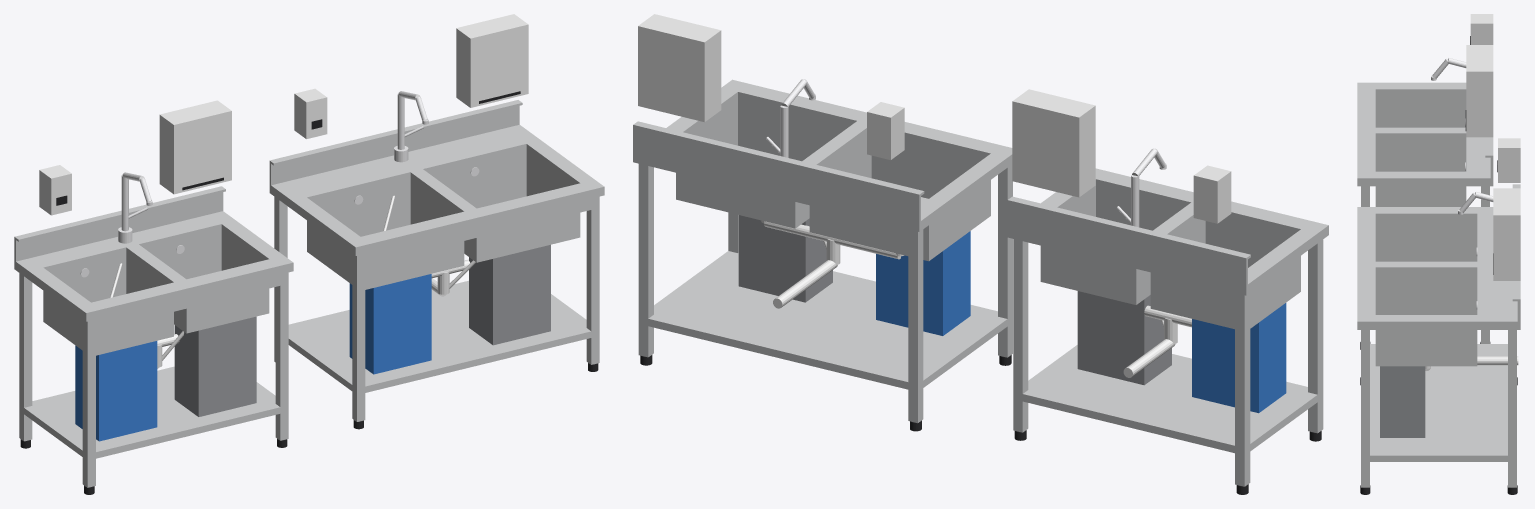
Rendered from Doppelwaschbecken.glb.
3 views of the same model, side by side, from view 1: azimuth 30°, elevation 25°; view 2: azimuth 150°, elevation 25°; view 3: azimuth 270°, elevation 25° (orthographic). The views are drawn at different scales.
Parts seen in each view (by area): view 1: Doppelwaschbecken_1200x720x850, Doppelwaschbecken_1200x720x850_Arbeitsplatte, Doppelwaschbecken_1000x600x850, Doppelwaschbecken_1000x600x850_Arbeitsplatte, Doppelwaschbecken_1200x720x850_Grundboden, Doppelwaschbecken_1000x600x850_Kanister_Abwasser, Doppelwaschbecken_1200x720x850_Kanister_Abwasser, Doppelwaschbecken_1000x600x850_Grundboden, Doppelwaschbecken_1200x720x850_Kanister_Frischwasser, Doppelwaschbecken_1000x600x850_Kanister_Frischwasser, Doppelwaschbecken_1000x600x850_Papierhandtuchhalter, Doppelwaschbecken_1200x720x850_Papierhandtuchhalter (+14 smaller); view 2: Doppelwaschbecken_1200x720x850_Grundboden, Doppelwaschbecken_1200x720x850, Doppelwaschbecken_1000x600x850, Doppelwaschbecken_1000x600x850_Grundboden, Doppelwaschbecken_1200x720x850_Arbeitsplatte, Doppelwaschbecken_1000x600x850_Arbeitsplatte, Doppelwaschbecken_1000x600x850_Papierhandtuchhalter, Doppelwaschbecken_1200x720x850_Papierhandtuchhalter, Doppelwaschbecken_1200x720x850_Aufkantung, Doppelwaschbecken_1000x600x850_Aufkantung, Doppelwaschbecken_1000x600x850_Kanister_Frischwasser, Doppelwaschbecken_1000x600x850_Kanister_Abwasser (+14 smaller); view 3: Doppelwaschbecken_1200x720x850, Doppelwaschbecken_1200x720x850_Grundboden, Doppelwaschbecken_1200x720x850_Arbeitsplatte, Doppelwaschbecken_1000x600x850, Doppelwaschbecken_1000x600x850_Arbeitsplatte, Doppelwaschbecken_1200x720x850_Kanister_Abwasser, Doppelwaschbecken_1200x720x850_Papierhandtuchhalter, Doppelwaschbecken_1000x600x850_Papierhandtuchhalter, Doppelwaschbecken_1200x720x850_Bein_11.4_0.1, Doppelwaschbecken_1200x720x850_Bein_11.4_6.6, Doppelwaschbecken_1200x720x850_Seifenspender, Doppelwaschbecken_1000x600x850_Seifenspender (+2 smaller).
Boxes of the visible parts, x1,y1,x2,y2 form: Doppelwaschbecken_1200x720x850: [307, 144, 580, 289]; Doppelwaschbecken_1200x720x850_Arbeitsplatte: [269, 124, 604, 255]; Doppelwaschbecken_1000x600x850: [43, 224, 269, 355]; Doppelwaschbecken_1000x600x850_Arbeitsplatte: [14, 211, 293, 321]; Doppelwaschbecken_1200x720x850_Grundboden: [274, 280, 599, 394]; Doppelwaschbecken_1000x600x850_Kanister_Abwasser: [174, 316, 256, 416]; Doppelwaschbecken_1200x720x850_Kanister_Abwasser: [469, 244, 550, 345]; Doppelwaschbecken_1000x600x850_Grundboden: [24, 366, 282, 460]; Doppelwaschbecken_1200x720x850_Kanister_Frischwasser: [349, 274, 431, 374]; Doppelwaschbecken_1000x600x850_Kanister_Frischwasser: [75, 341, 157, 441]; Doppelwaschbecken_1000x600x850_Papierhandtuchhalter: [159, 100, 231, 194]; Doppelwaschbecken_1200x720x850_Papierhandtuchhalter: [456, 14, 528, 107]; Doppelwaschbecken_1200x720x850_Grundboden: [638, 251, 1012, 391]; Doppelwaschbecken_1200x720x850: [676, 92, 990, 261]; Doppelwaschbecken_1000x600x850: [1040, 180, 1300, 329]; Doppelwaschbecken_1000x600x850_Grundboden: [1022, 345, 1323, 454]; Doppelwaschbecken_1200x720x850_Arbeitsplatte: [633, 79, 1012, 231]; Doppelwaschbecken_1000x600x850_Arbeitsplatte: [1007, 168, 1328, 295]; Doppelwaschbecken_1000x600x850_Papierhandtuchhalter: [1012, 89, 1095, 197]; Doppelwaschbecken_1200x720x850_Papierhandtuchhalter: [638, 14, 721, 122]; Doppelwaschbecken_1200x720x850_Aufkantung: [633, 124, 920, 221]; Doppelwaschbecken_1000x600x850_Aufkantung: [1007, 199, 1247, 285]; Doppelwaschbecken_1000x600x850_Kanister_Frischwasser: [1192, 303, 1286, 413]; Doppelwaschbecken_1000x600x850_Kanister_Abwasser: [1077, 291, 1171, 385]; Doppelwaschbecken_1200x720x850: [1375, 213, 1477, 368]; Doppelwaschbecken_1200x720x850_Grundboden: [1361, 344, 1516, 461]; Doppelwaschbecken_1200x720x850_Arbeitsplatte: [1357, 207, 1520, 329]; Doppelwaschbecken_1000x600x850: [1375, 89, 1466, 206]; Doppelwaschbecken_1000x600x850_Arbeitsplatte: [1357, 82, 1493, 186]; Doppelwaschbecken_1200x720x850_Kanister_Abwasser: [1380, 366, 1425, 437]; Doppelwaschbecken_1200x720x850_Papierhandtuchhalter: [1493, 188, 1520, 280]; Doppelwaschbecken_1000x600x850_Papierhandtuchhalter: [1466, 45, 1493, 137]; Doppelwaschbecken_1200x720x850_Bein_11.4_0.1: [1361, 330, 1369, 487]; Doppelwaschbecken_1200x720x850_Bein_11.4_6.6: [1508, 330, 1516, 487]; Doppelwaschbecken_1200x720x850_Seifenspender: [1498, 138, 1520, 182]; Doppelwaschbecken_1000x600x850_Seifenspender: [1470, 14, 1493, 44].
Bounding box in the file's own units: 25 × 13.6 × 7.2.
